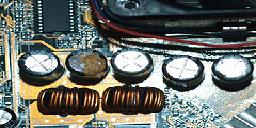Electrolytic-Capacitor: (162, 55, 206, 95), (18, 45, 64, 81), (112, 49, 156, 80)
